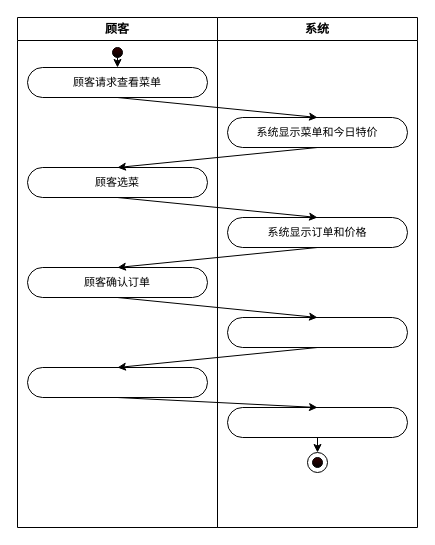
This 435x545 diagram has some shape labels left out. Here are the shapes that lost their labels. From the top down, the centre of each, then its label:
At (x=317, y=332): "系统显示可送餐时间".
At (x=117, y=382): "顾客指定送餐时间、地点、支付方式".
At (x=317, y=422): "系统确认接受订单".
